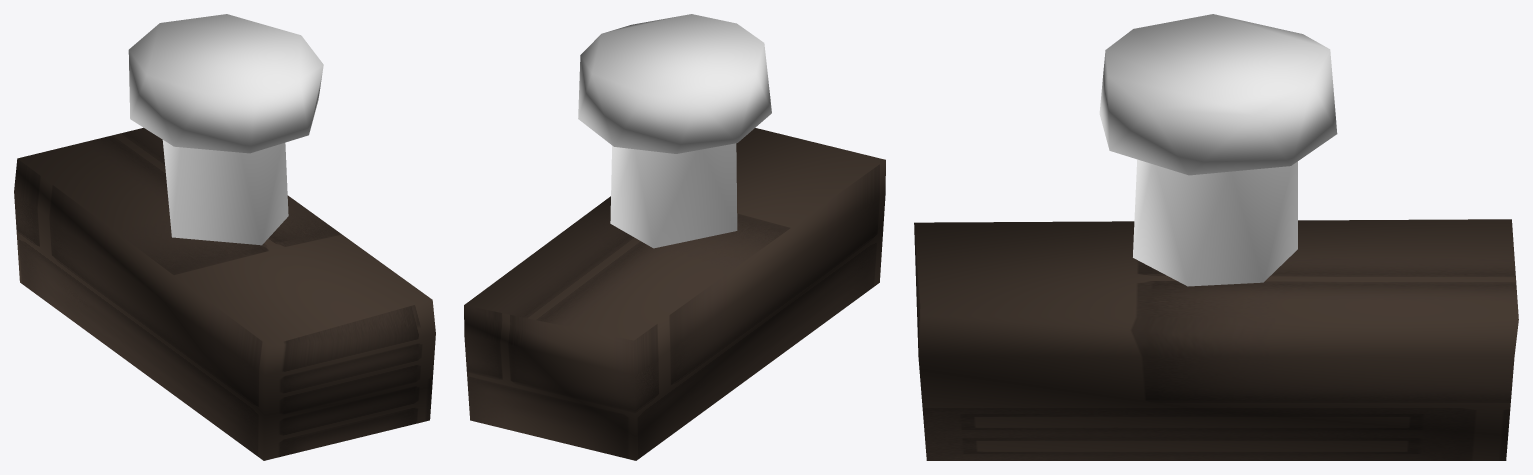
File: stamp.fbx
3 renders of one model, left to right at view 1: azimuth 30°, elevation 25°; view 2: azimuth 150°, elevation 25°; view 3: azimuth 270°, elevation 25°, orthographic. The views are drawn at different scales.
Visible parts, largest first — view 1: Cylinder.019; view 2: Cylinder.019; view 3: Cylinder.019.
Boxes of the visible parts, bbox=[...] form: Cylinder.019: bbox=[14, 14, 435, 460]; Cylinder.019: bbox=[464, 14, 885, 460]; Cylinder.019: bbox=[914, 14, 1518, 460].
Bounding box in the file's own units: 30.64 × 51.17 × 79.01.
Materials: 2 (1 with a texture image).
